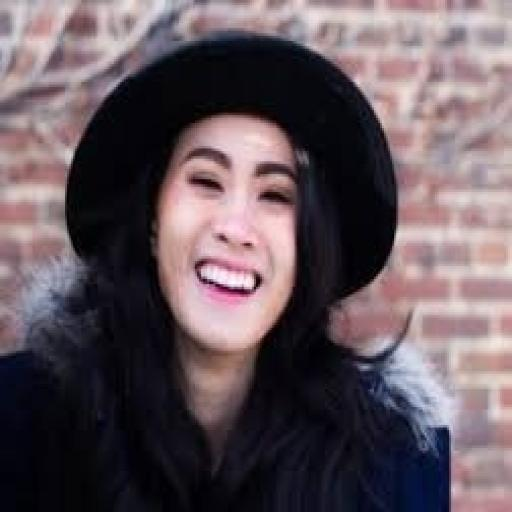laughing: (0, 23, 461, 509)
